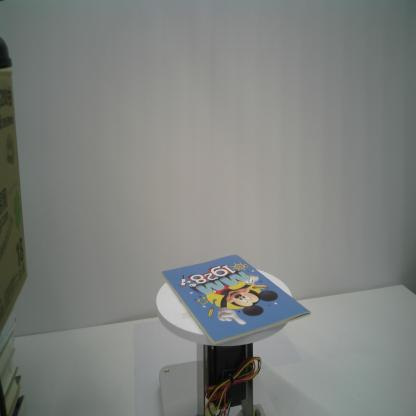Stationery: (160, 253, 312, 345)
